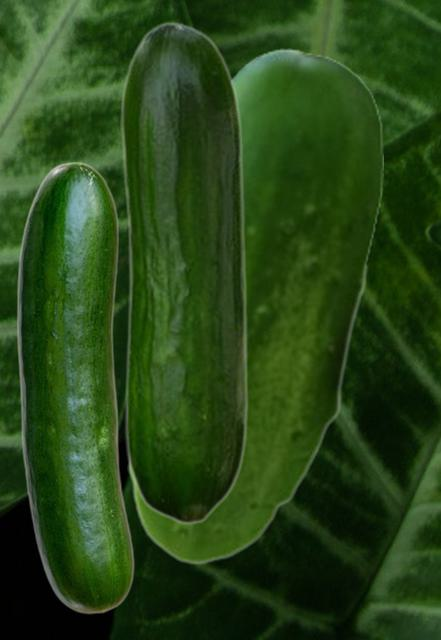cucumber: (127, 48, 382, 564), (120, 21, 248, 524), (16, 161, 133, 613)
